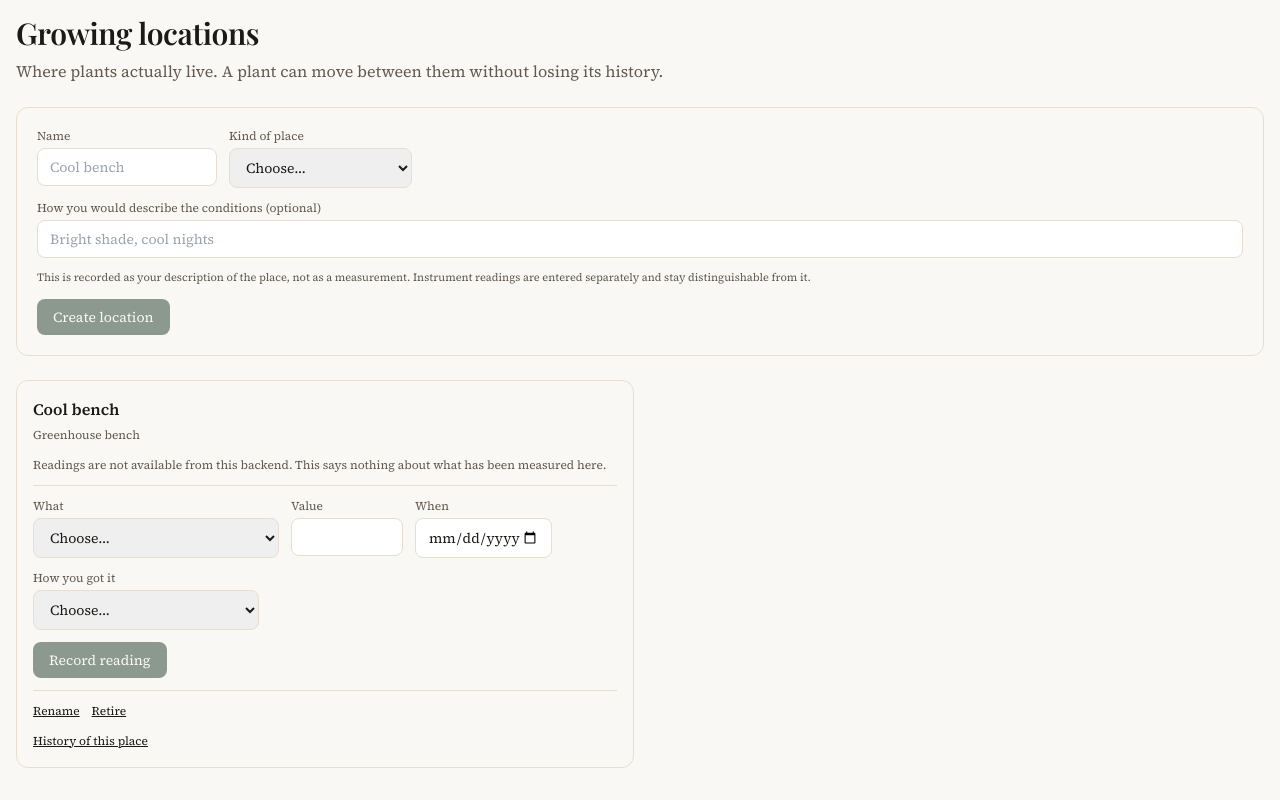
MyConservatory location administration › says a rename is not a move
The image size is (1280, 800).
(page scrolled)
What coordinates should you click on to do the following:
click the button "Rename"
I would click on:
 (56, 710)
Its box is [33,702,80,718].
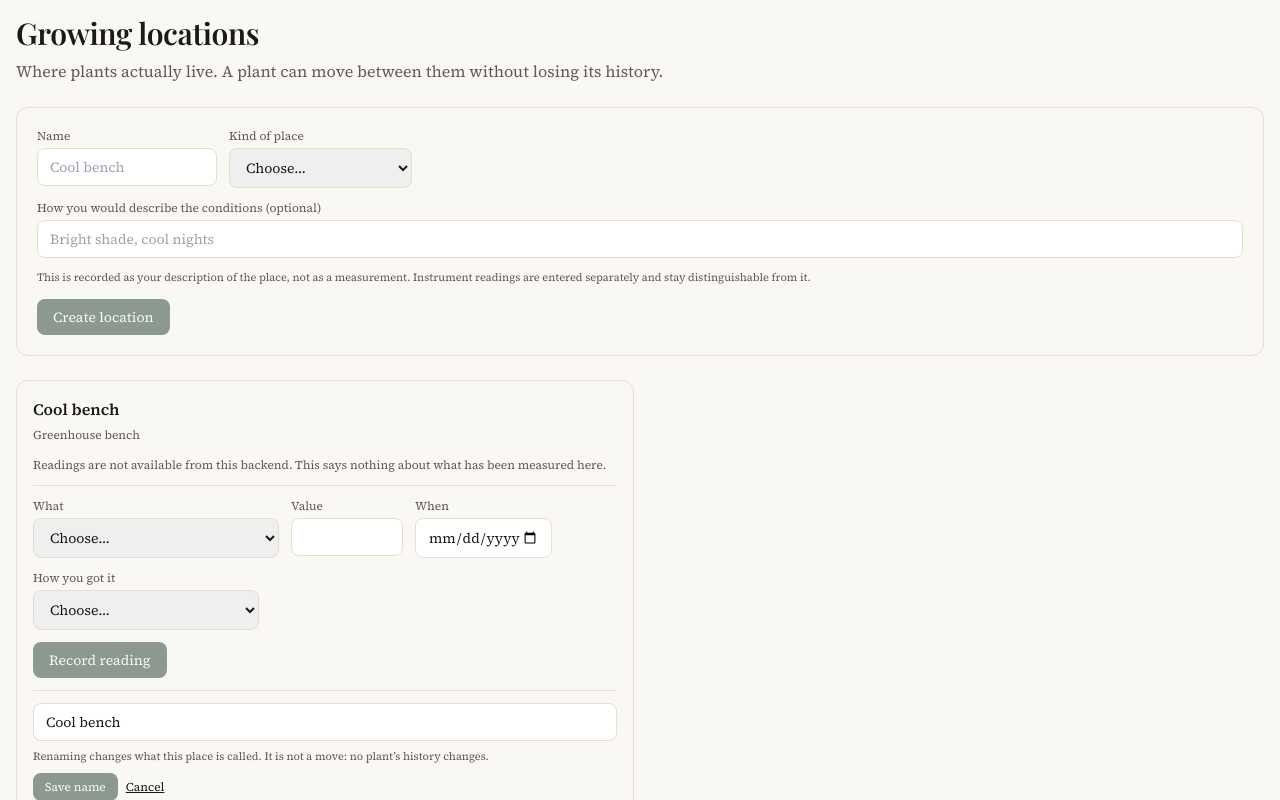
Expected: the text with test id "rename-note-loc-1" shows "It is not a move", [33,748,489,764]
Expected: the text with test id "rename-note-loc-1" shows "no plant.s history changes", [33,748,489,764]
